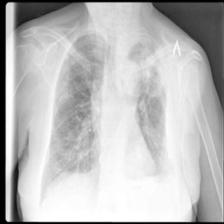tuberculosis: (41, 24, 179, 194)
